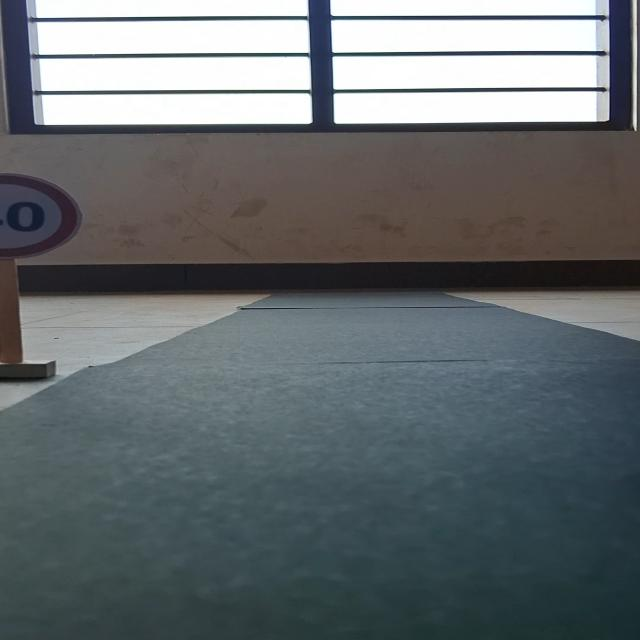Reject: (2, 172, 88, 259)
